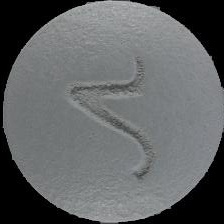68084-842: (0, 0, 224, 224)
